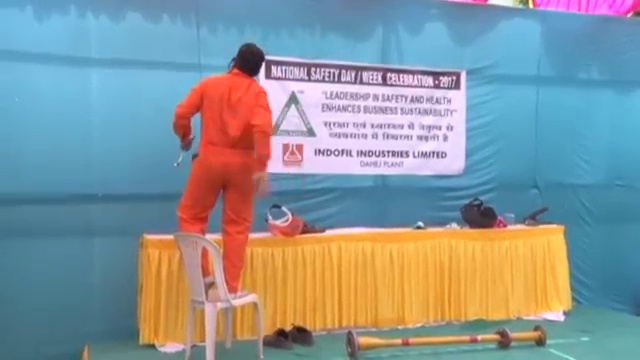helmet_off: (231, 43, 266, 77)
person: (167, 44, 278, 301)
